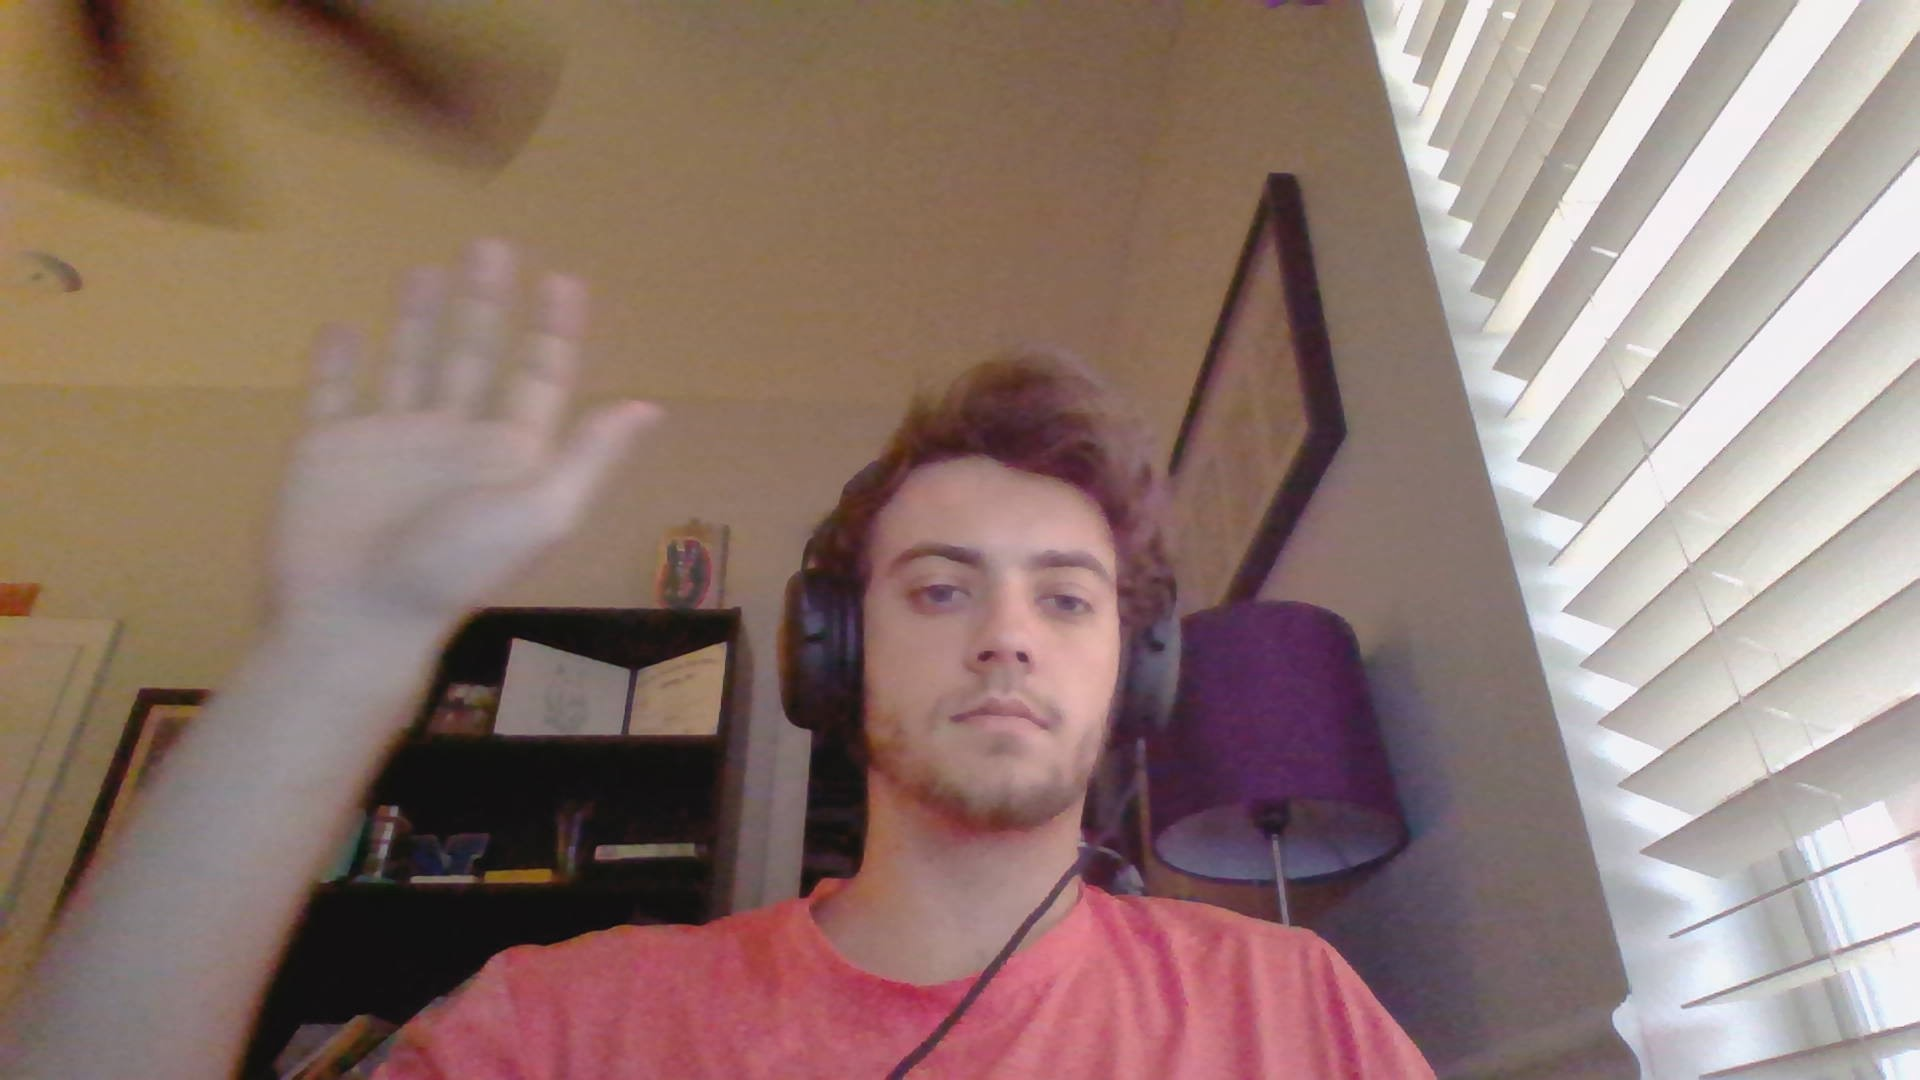Right Palm Up: (252, 235, 669, 675)
